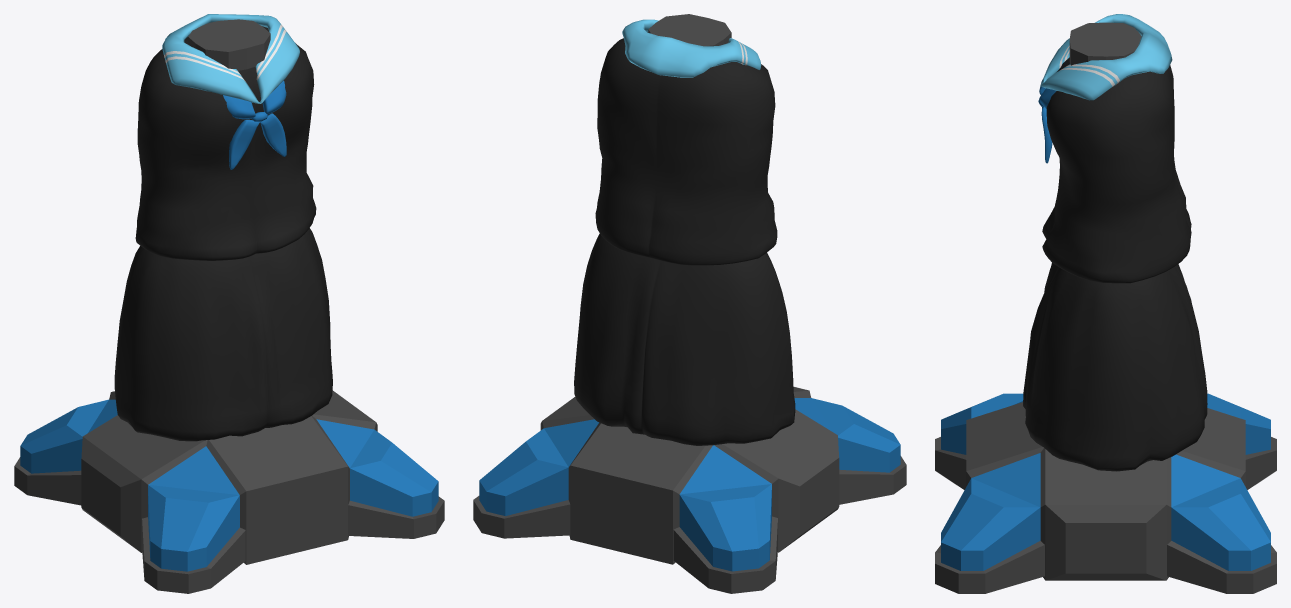
Rendered from TurretFireMeshBody.fbx.
3 views of the same model, side by side, from view 1: azimuth 30°, elevation 25°; view 2: azimuth 150°, elevation 25°; view 3: azimuth 270°, elevation 25° (orthographic). The views are drawn at different scales.
Visible parts, largest first — view 1: Cube.008; view 2: Cube.008; view 3: Cube.008.
Part boxes in pixels (bbox=[...]): Cube.008: bbox=[14, 14, 444, 593]; Cube.008: bbox=[473, 14, 906, 593]; Cube.008: bbox=[935, 14, 1276, 593].
Bounding box in the file's own units: 153 × 242 × 153.
